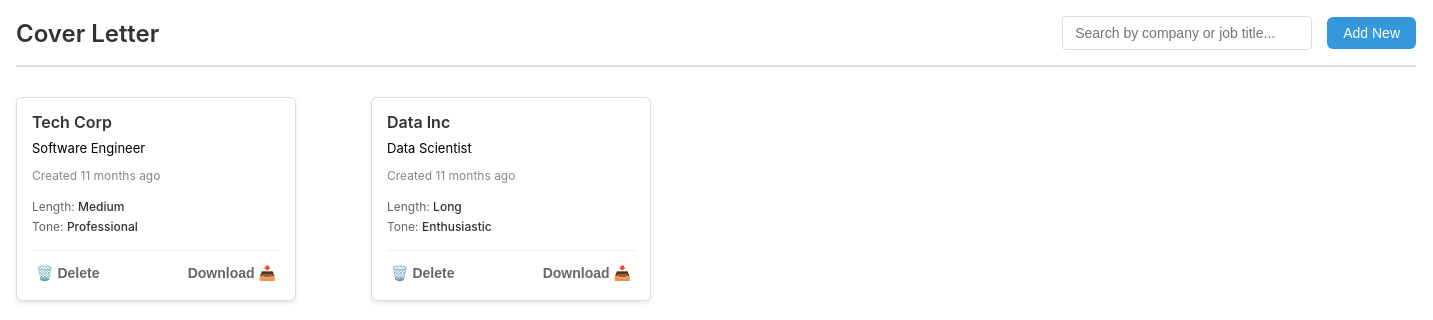
Test case: CoverLetter Component › Search Functionality › filters by company name
This screenshot has width=1433, height=320.
Expected: the text "Tech Corp" is shown, [32,112,112,132]
Type "Tech" into the field with placeholder "Search by company or job title..." at {"x": 1187, "y": 33}, box [1062,16,1312,50]
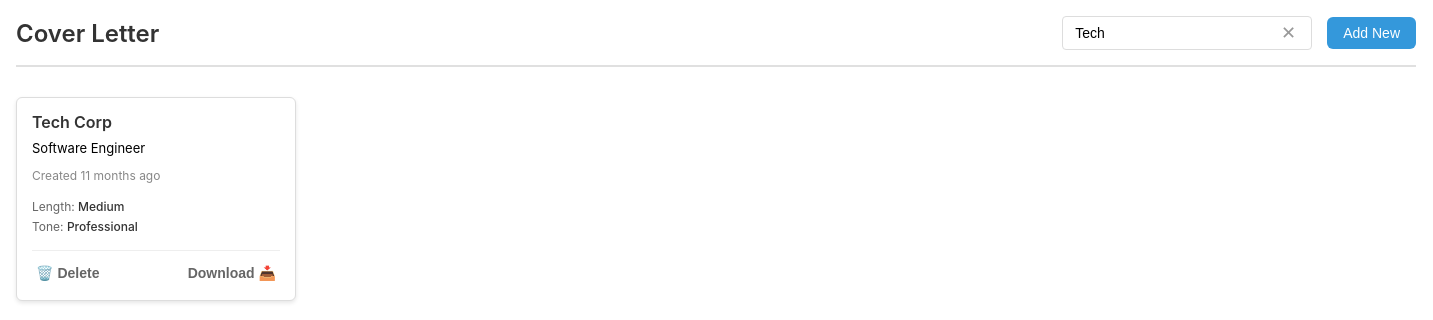
Expected: the text "Tech Corp" is shown, [32,112,112,132]
Result: the text "Data Inc" is gone
